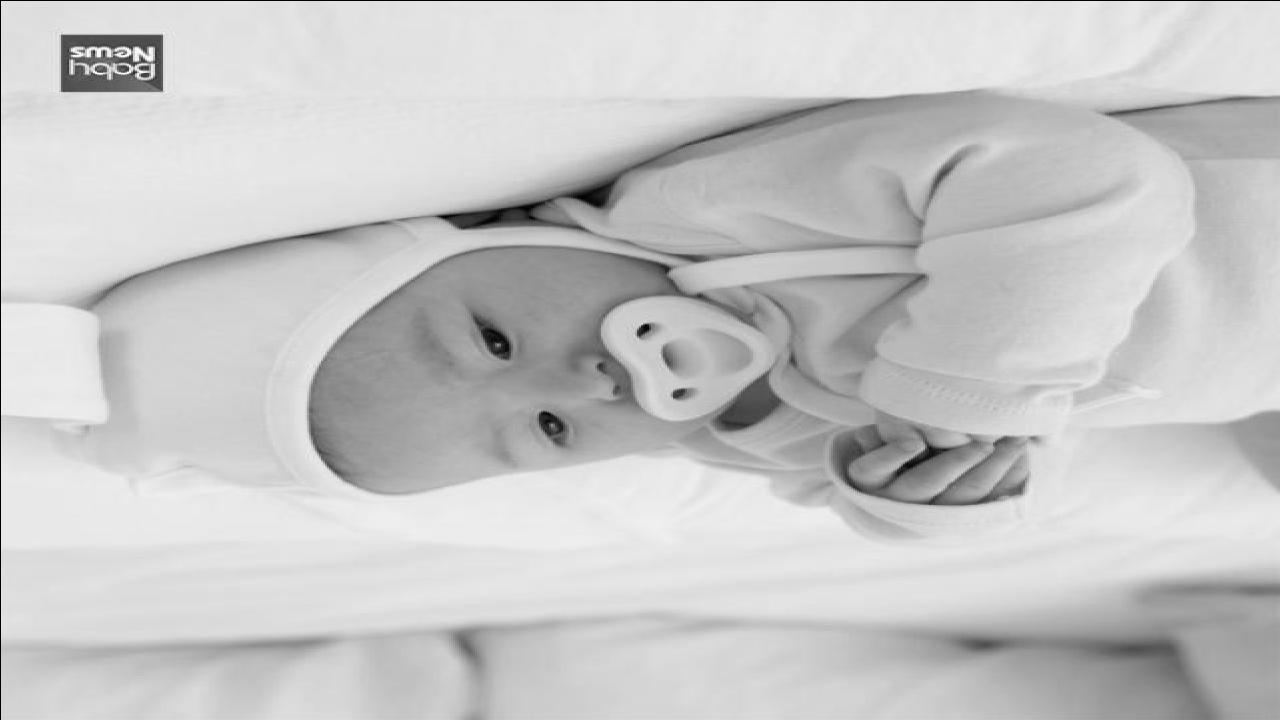hand: (838, 442, 1032, 504)
